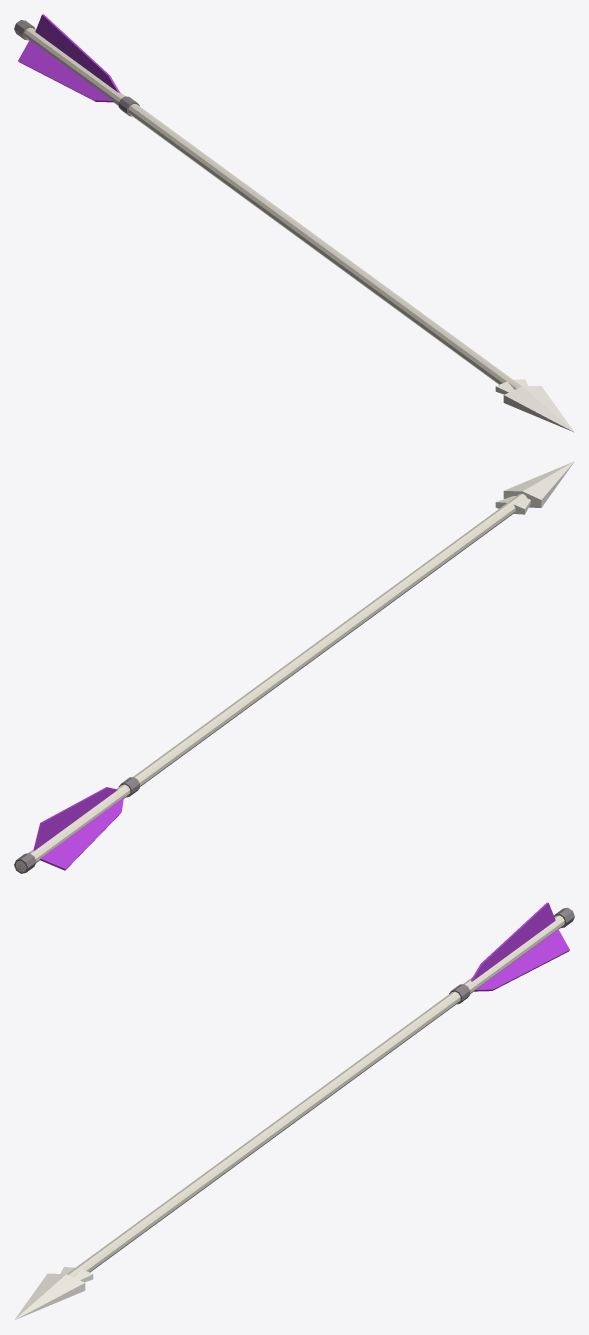
File: BONEQUILL_bonearrow_purple_fletch.fbx
The picture shows the model from 3 angles, top to bottom: view 1: azimuth 30°, elevation 25°; view 2: azimuth 150°, elevation 25°; view 3: azimuth 330°, elevation 25°; orthographic projection.
Parts seen in each view (by area): view 1: BONEQUILL_bonearrow_purple_fletch; view 2: BONEQUILL_bonearrow_purple_fletch; view 3: BONEQUILL_bonearrow_purple_fletch.
Boxes of the visible parts, x1,y1,x2,y2 form: BONEQUILL_bonearrow_purple_fletch: (14, 14, 574, 432); BONEQUILL_bonearrow_purple_fletch: (14, 461, 574, 873); BONEQUILL_bonearrow_purple_fletch: (14, 902, 574, 1320).
Size of the model in its own units: 0.0389 by 0.0343 by 0.7925.
